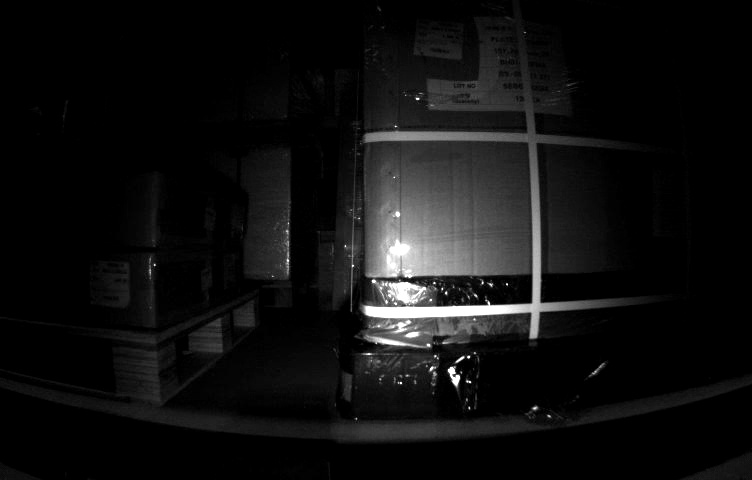True Barcode: (88, 260, 131, 311), (416, 19, 464, 59)
